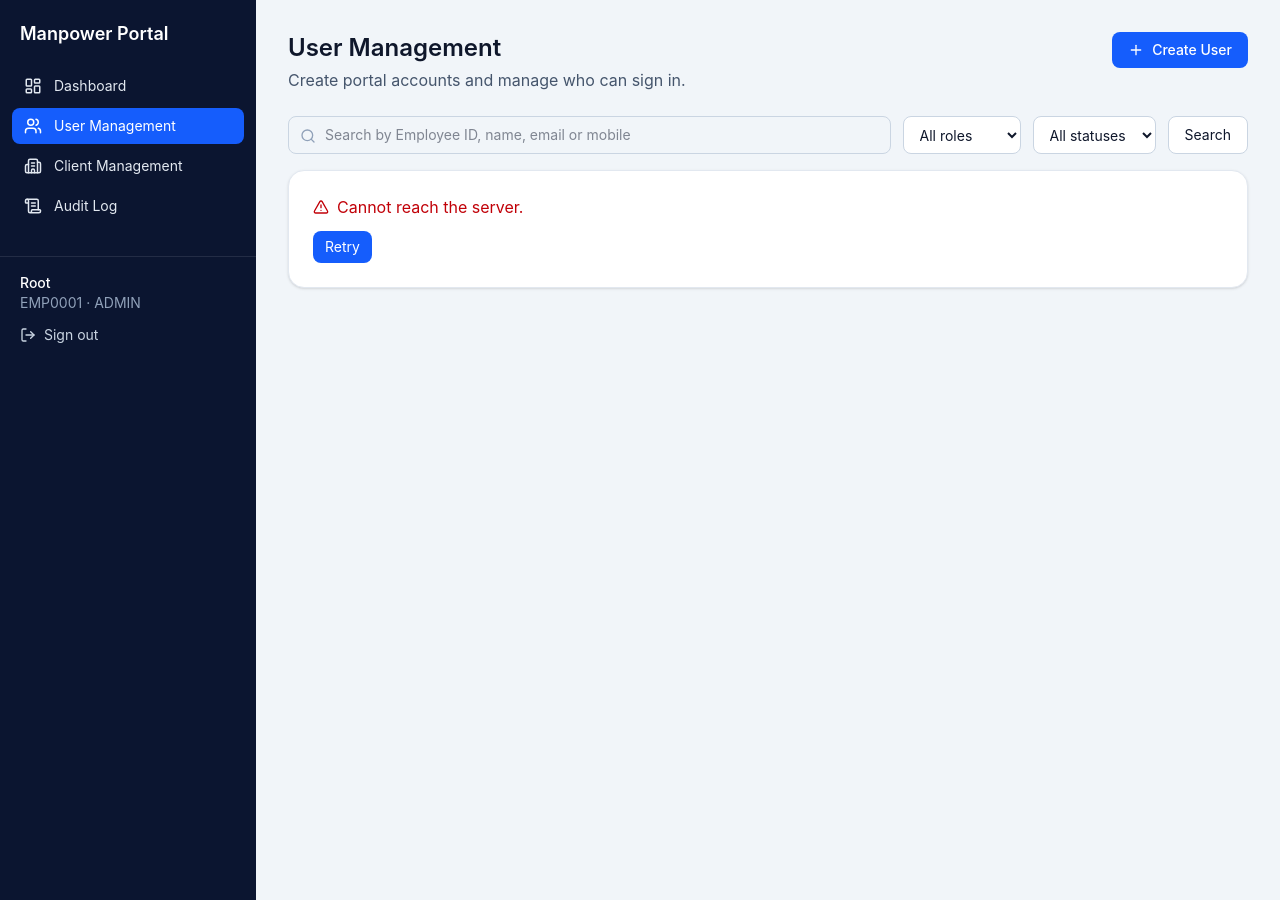
Test: error state offers retry
The width and height of the screenshot is (1280, 900).
Check: the message shows "Cannot reach the server.", box [337,197,524,217]
Click the button "Retry".
click(342, 247)  # box [313,231,372,263]
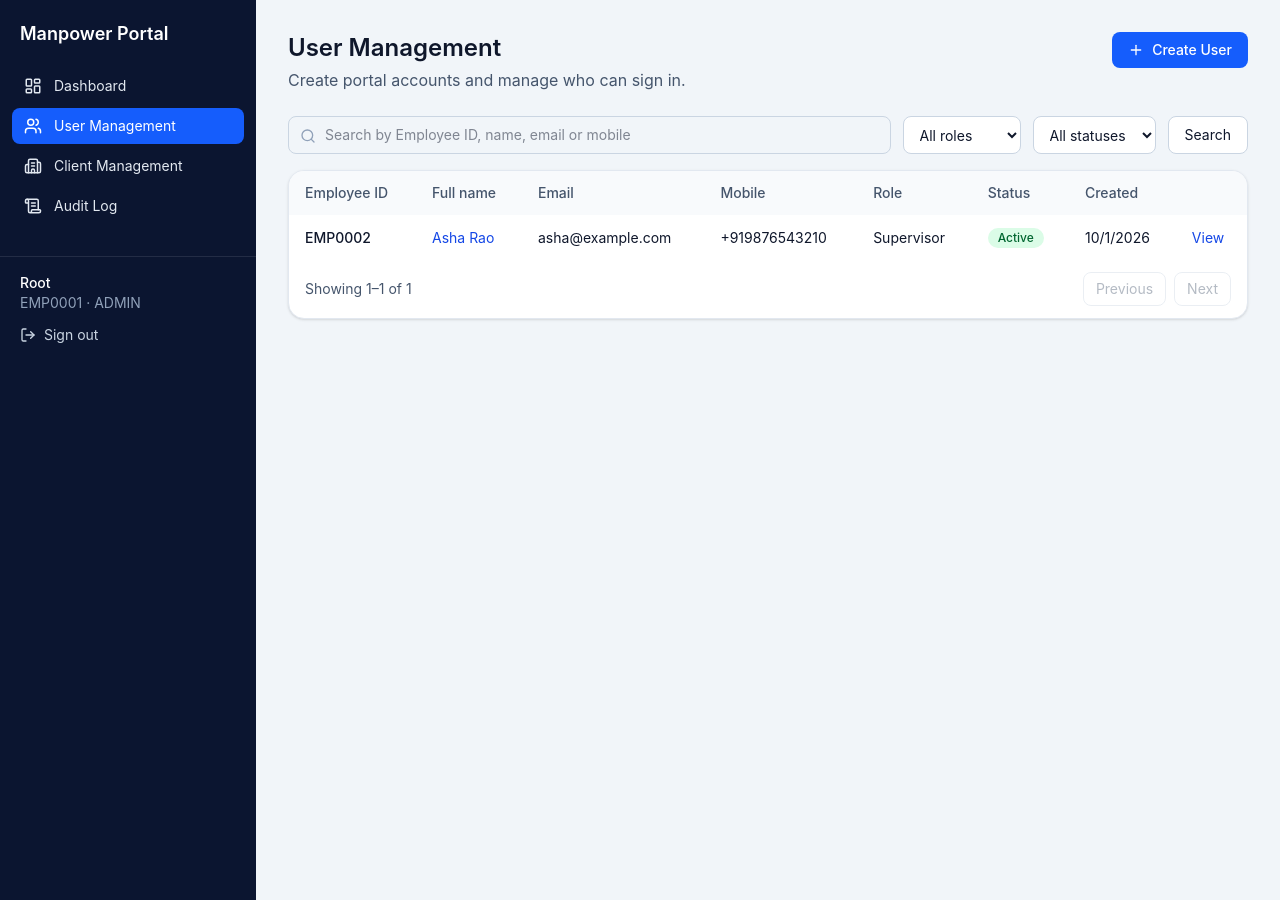
Check: the text "EMP0002" is shown, box [289,215,416,260]
